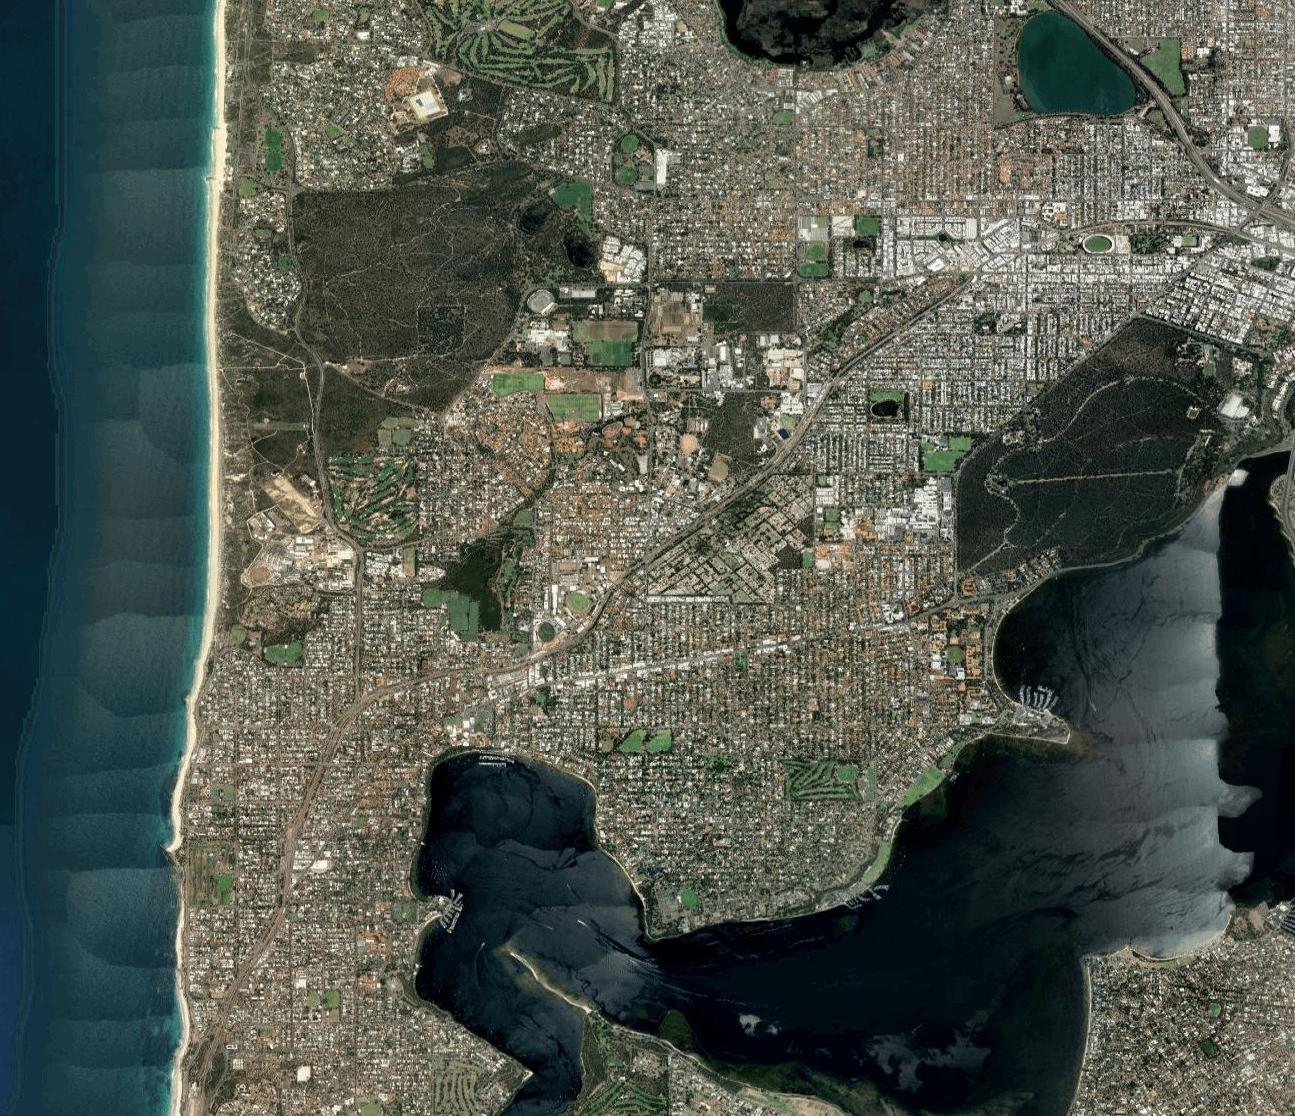harbor: (418, 881, 469, 938), (1011, 673, 1062, 718), (841, 873, 892, 917)
